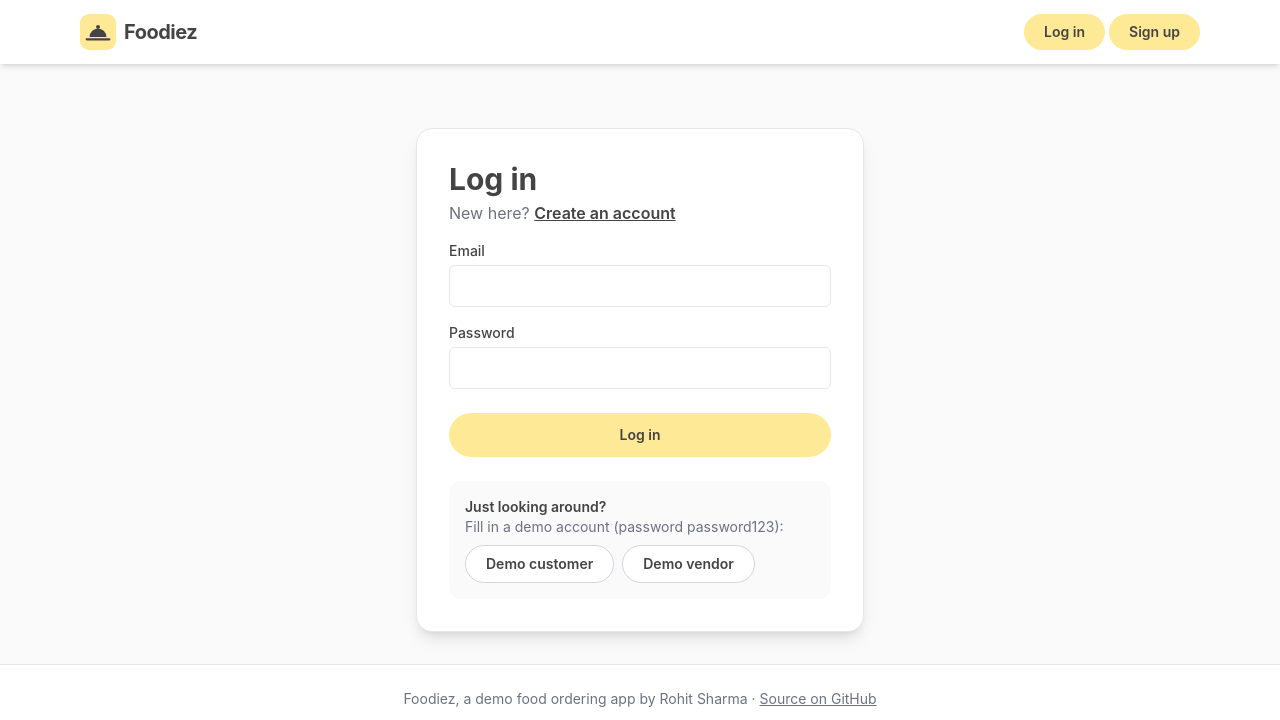
Scenario: login page › logs a customer in and remembers the session
Step 1. Type "customer@foodiez.dev" into the field labelled "Email" → (640, 286), box [449, 265, 831, 307]
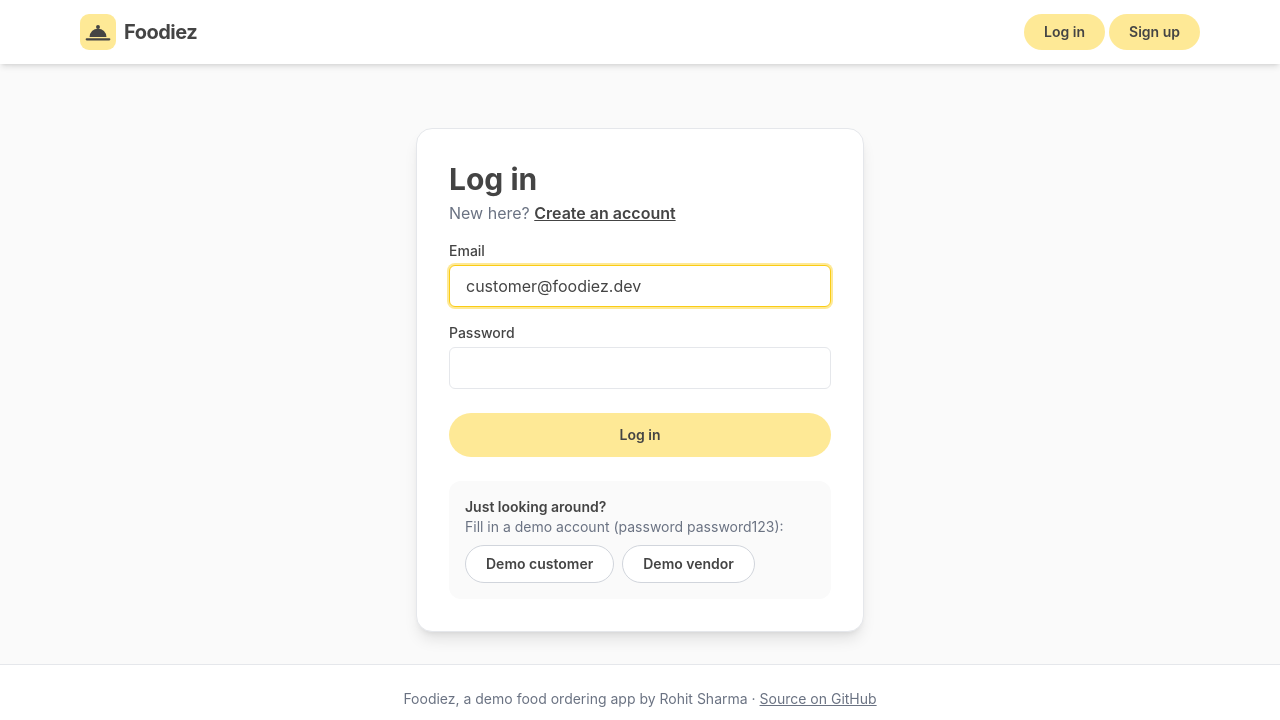
Step 2. Type "password123" into the password field labelled "Password" → (640, 368), box [449, 347, 831, 389]
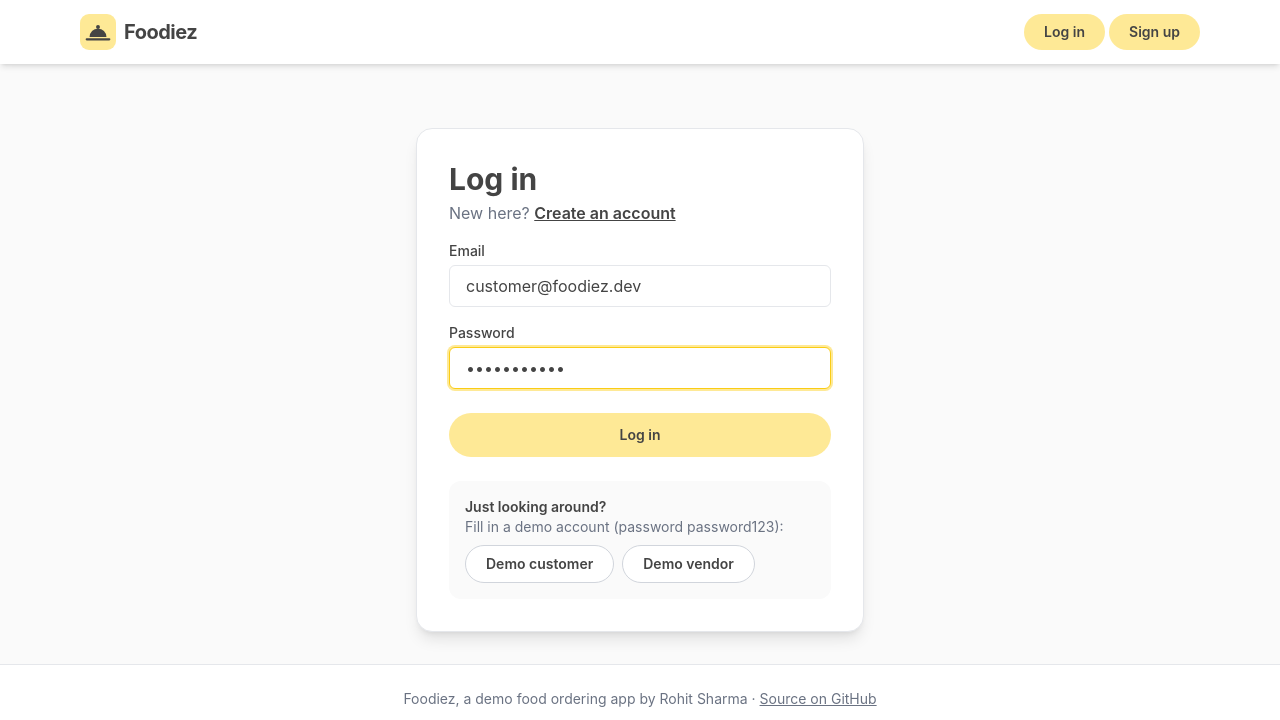
Step 3. Click the button "Log in" → (640, 435), box [449, 413, 831, 457]
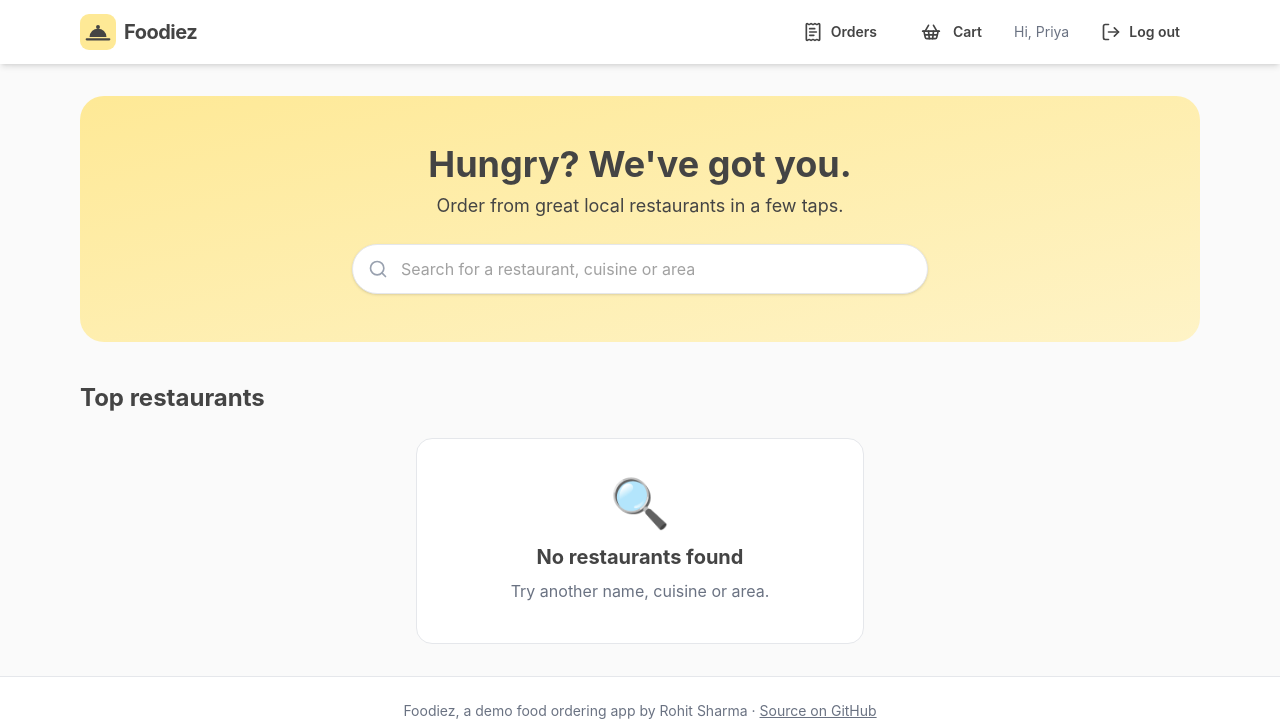
Result: the text "Hi, Priya" is shown at [1014, 23, 1069, 40]
